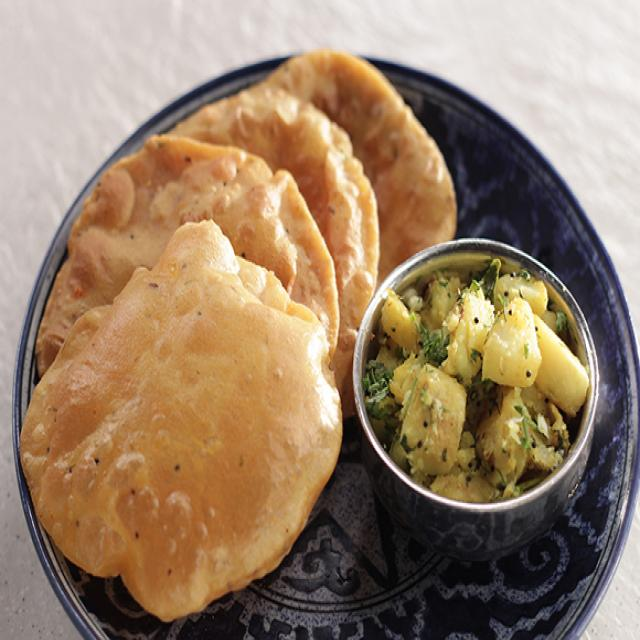CURRY: (361, 254, 592, 499)
POORI: (17, 42, 458, 626)
